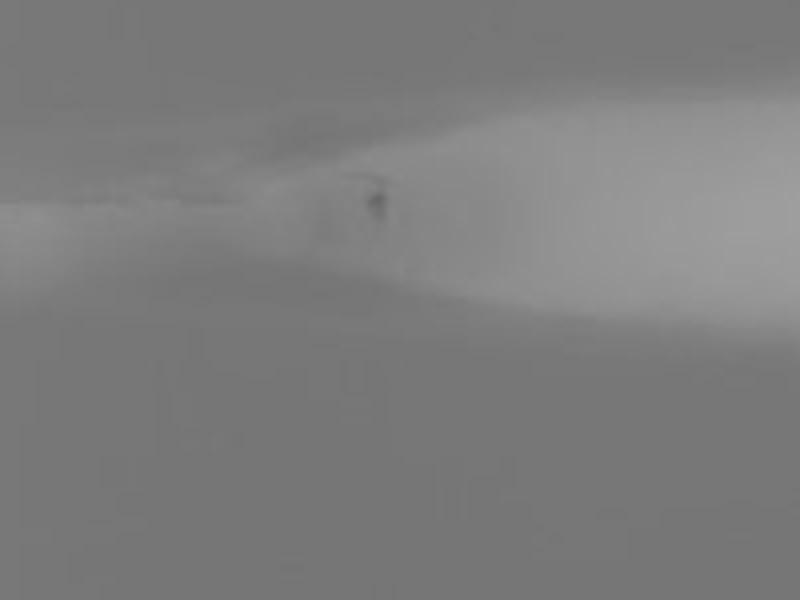defect: (364, 192, 391, 225)
